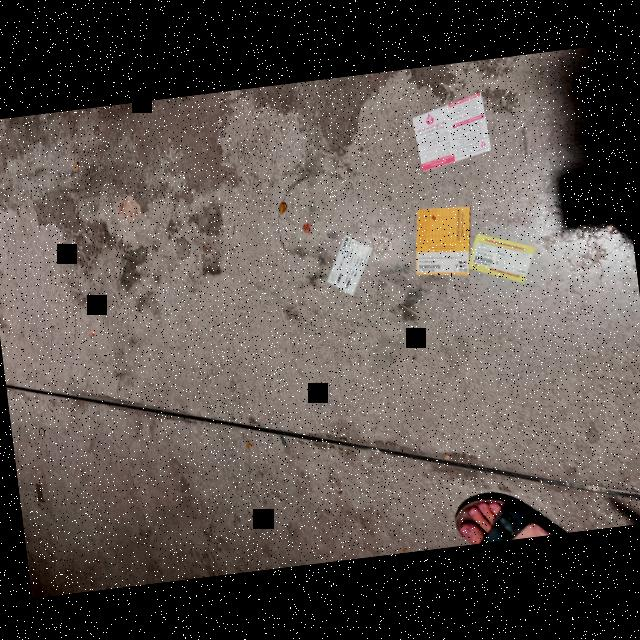scrap_paper: (404, 82, 499, 172), (401, 194, 474, 288), (465, 219, 541, 298), (322, 225, 377, 301)
